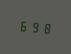eight: (41, 20, 51, 35)
nine: (30, 19, 40, 34)
six: (18, 18, 28, 33)
